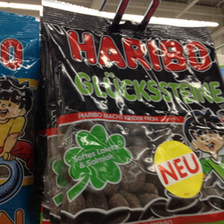candy: (42, 3, 224, 223)
